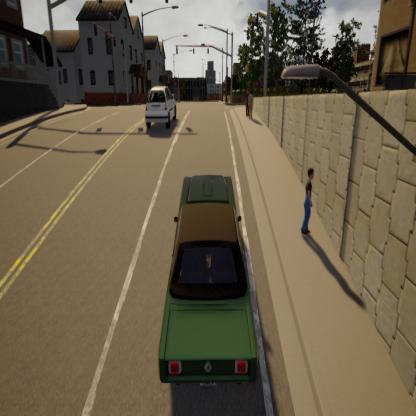Cars: (150, 150, 263, 416), (131, 71, 190, 151)
Pedestrian: (298, 153, 327, 284)
